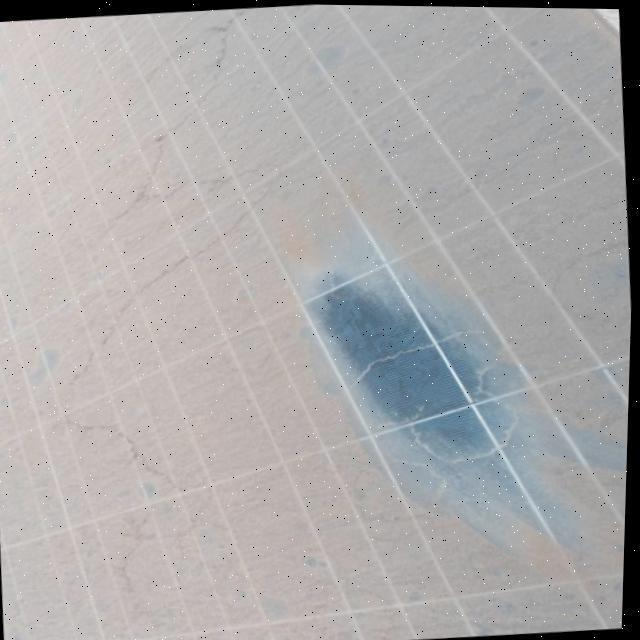Anomaly Solar Panel: (0, 0, 640, 640)
Surface Contaminant: (0, 4, 633, 640)
